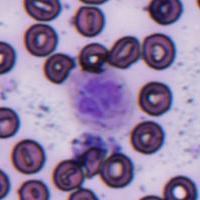N: (70, 70, 132, 130)
